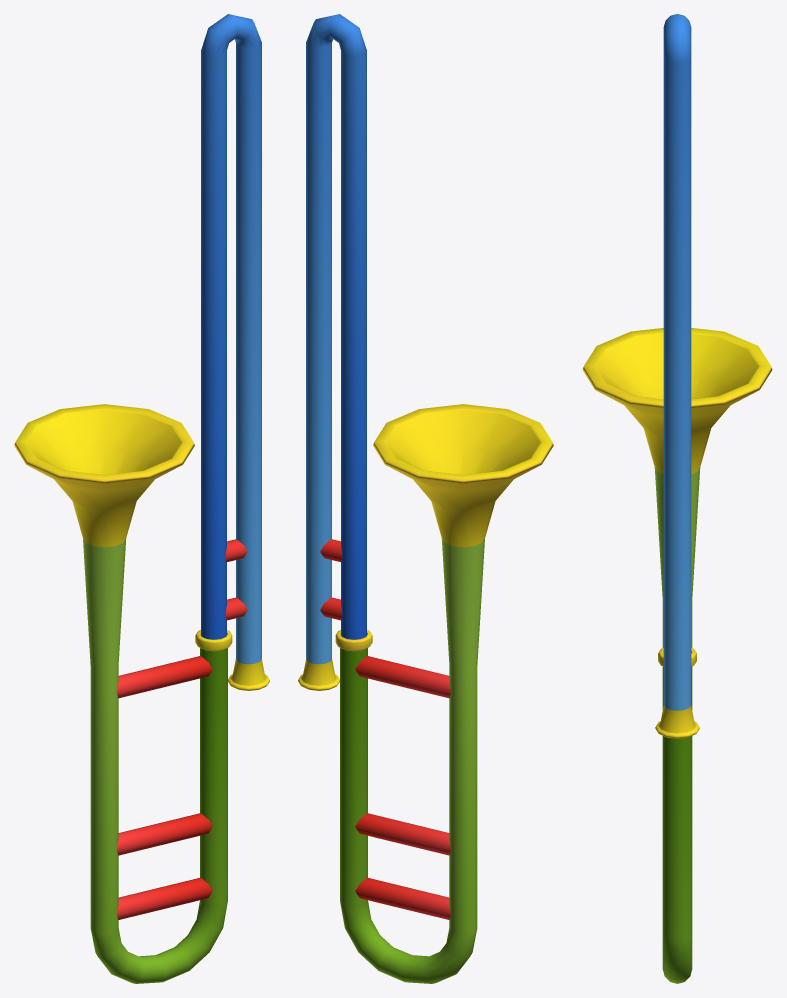
File: Trombone.fbx
The picture shows the model from 3 angles, left to right: view 1: azimuth 30°, elevation 25°; view 2: azimuth 150°, elevation 25°; view 3: azimuth 270°, elevation 25°; orthographic projection. The views are drawn at different scales.
Visible parts, largest first — view 1: Cylinder, Cylinder.005; view 2: Cylinder, Cylinder.005; view 3: Cylinder, Cylinder.005.
Boxes of the visible parts, x1,y1,x2,y2 form: Cylinder: [14, 404, 232, 983]; Cylinder.005: [201, 14, 269, 690]; Cylinder: [335, 404, 553, 983]; Cylinder.005: [298, 14, 366, 690]; Cylinder: [582, 328, 772, 983]; Cylinder.005: [655, 14, 699, 738].
Bounding box in the file's own units: 157 × 590 × 102.
